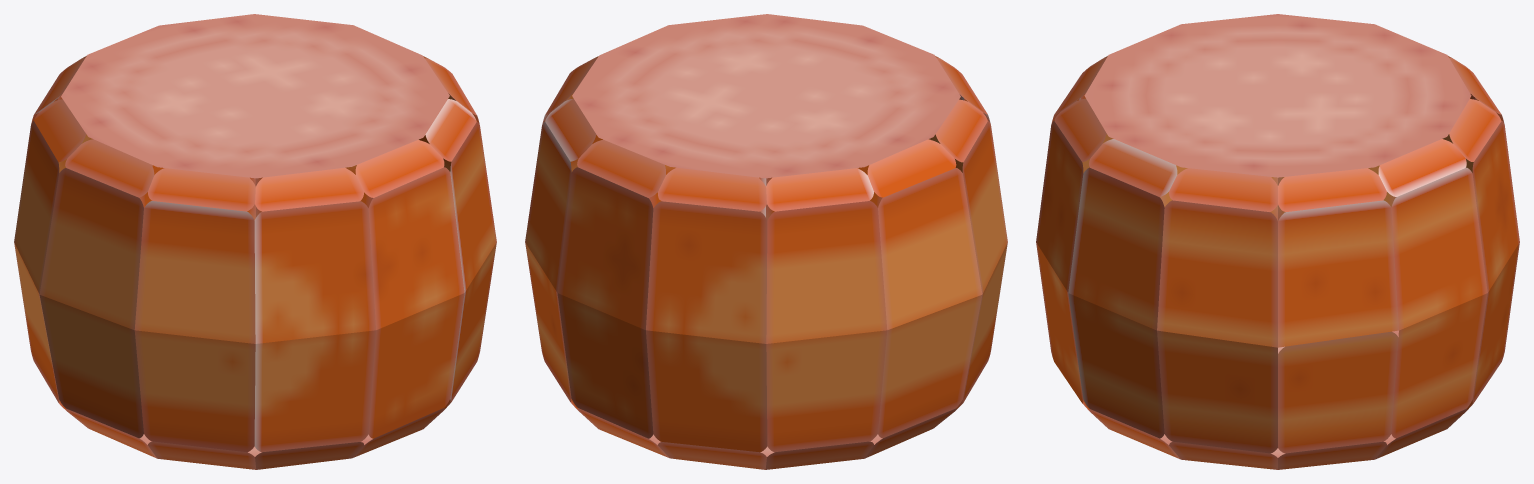
The model's file is sausage_corpse.fbx.
3 views of the same model, side by side, from view 1: azimuth 30°, elevation 25°; view 2: azimuth 150°, elevation 25°; view 3: azimuth 270°, elevation 25° (orthographic).
Visible parts, largest first — view 1: sausage_corpse; view 2: sausage_corpse; view 3: sausage_corpse.
Boxes of the visible parts, left/top/right/bottom form: sausage_corpse: left=14, top=14, right=496, bottom=469; sausage_corpse: left=525, top=14, right=1007, bottom=469; sausage_corpse: left=1036, top=14, right=1519, bottom=469.
Bounding box in the file's own units: 1.94 × 1.25 × 1.87.
